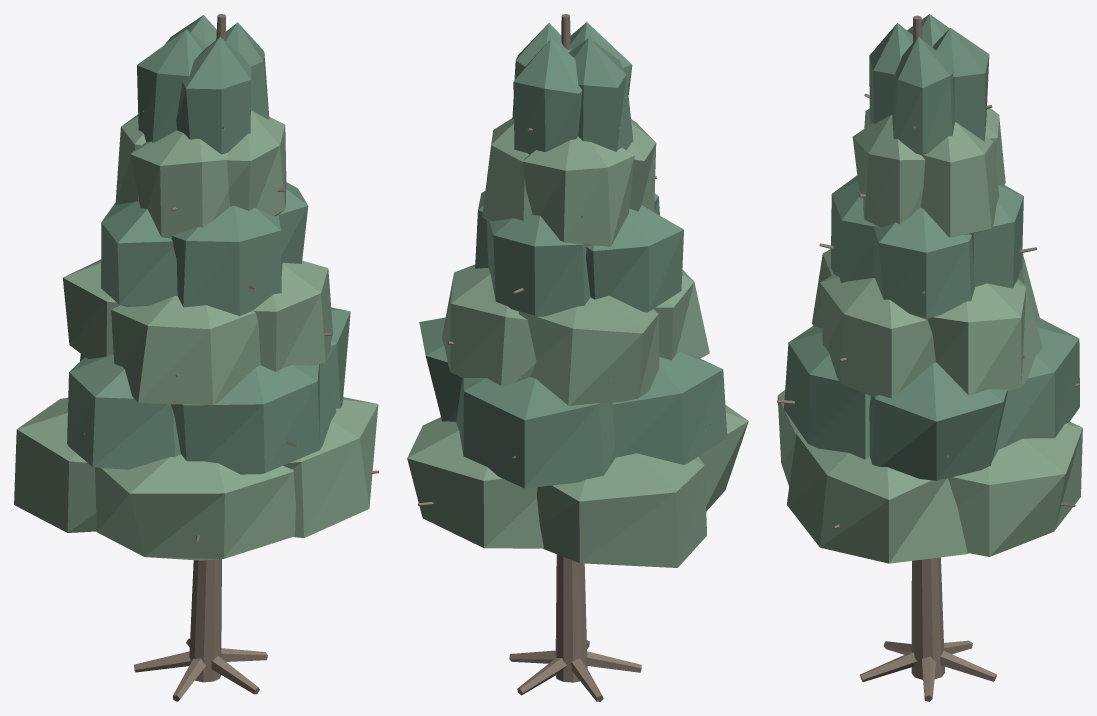
The picture shows the model from 3 angles, left to right: view 1: azimuth 30°, elevation 25°; view 2: azimuth 150°, elevation 25°; view 3: azimuth 270°, elevation 25°; orthographic projection.
Bounding box in the file's own units: 7.97 × 16.61 × 6.96.
